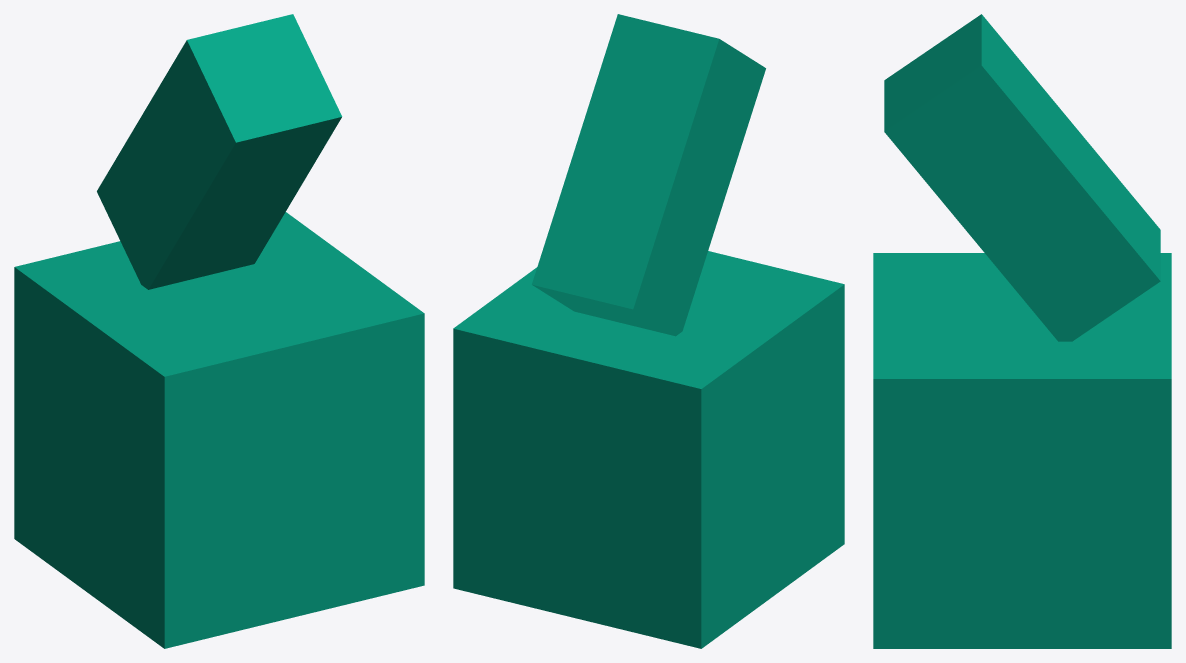
3 views of the same model, side by side, from view 1: azimuth 30°, elevation 25°; view 2: azimuth 150°, elevation 25°; view 3: azimuth 270°, elevation 25° (orthographic). The views are drawn at different scales.
Visible parts, largest first — view 1: Target_mesh; view 2: Target_mesh; view 3: Target_mesh.
Boxes of the visible parts, <box> form: Target_mesh: <box>14,14,424,648</box>; Target_mesh: <box>453,14,844,648</box>; Target_mesh: <box>873,14,1171,648</box>.
Bounding box in the file's own units: 2 × 4.05 × 2.
